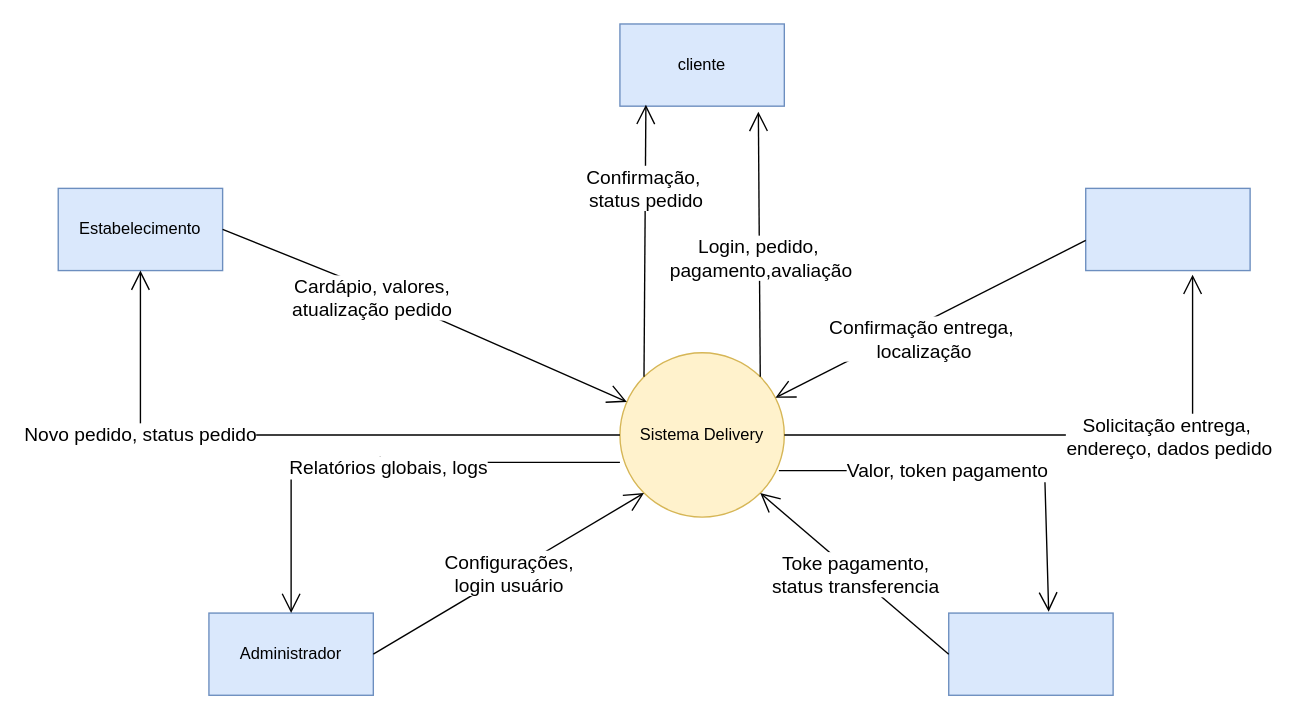
This 1295x719 diagram has some shape labels left out. The box of each missing label's shape, as (x1, y1, x2, y2) in pixels:
entregador: (1084, 187, 1250, 271)
Sistema de Pagamento: (947, 612, 1113, 695)
